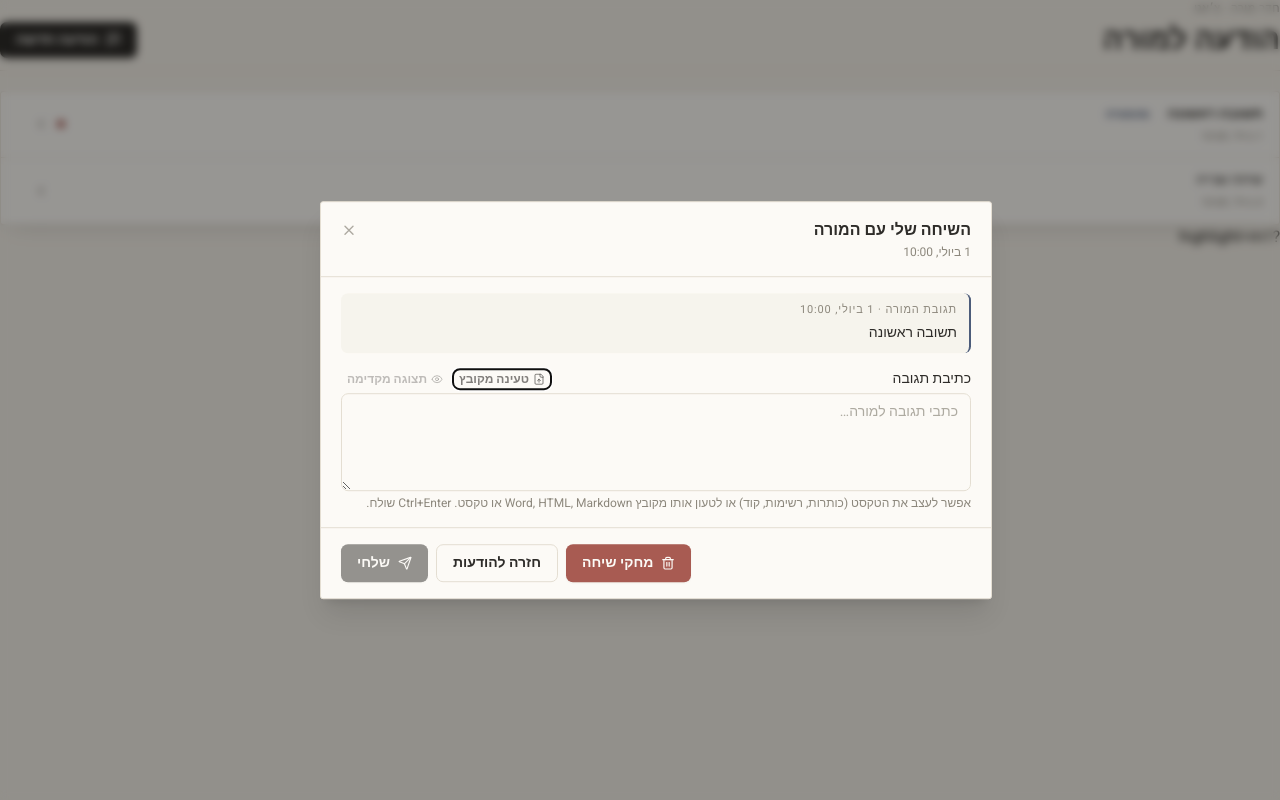
Test: StudentMessagesPage › the address of the open conversation › stays closed after closing, even when the list refreshes
Expected: the dialog is shown, x1=320 y1=201 x2=992 y2=599
Click the button "חזרה להודעות" at (497, 563), box x1=436 y1=544 x2=558 y2=582
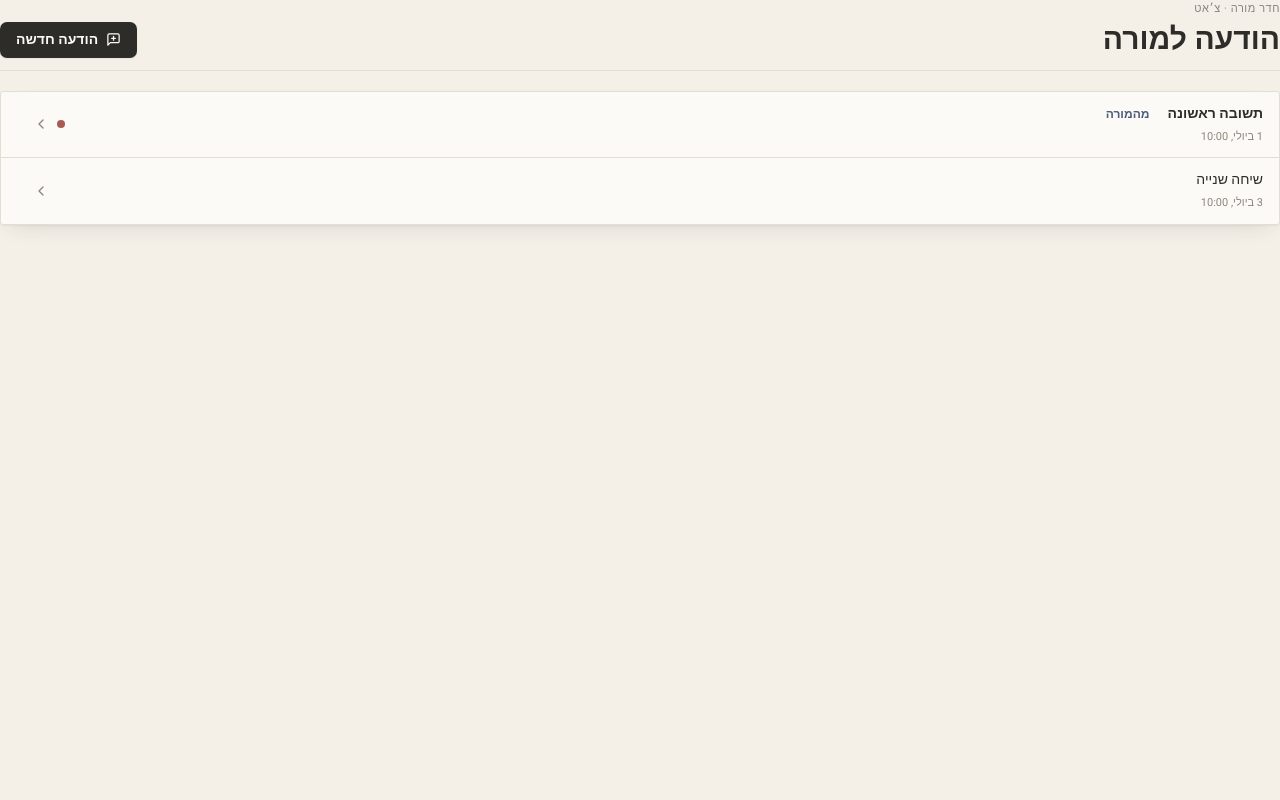
Result: the dialog is gone
